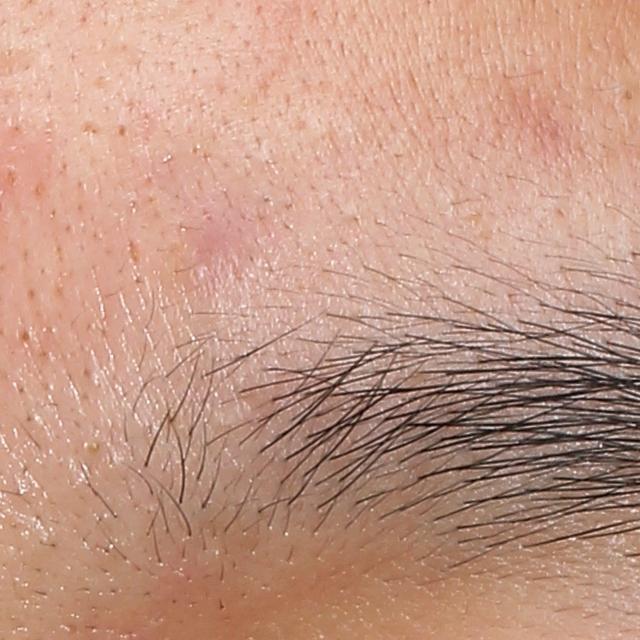atrophic_scar: (124, 235, 142, 270)
comedo: (620, 85, 638, 104)
